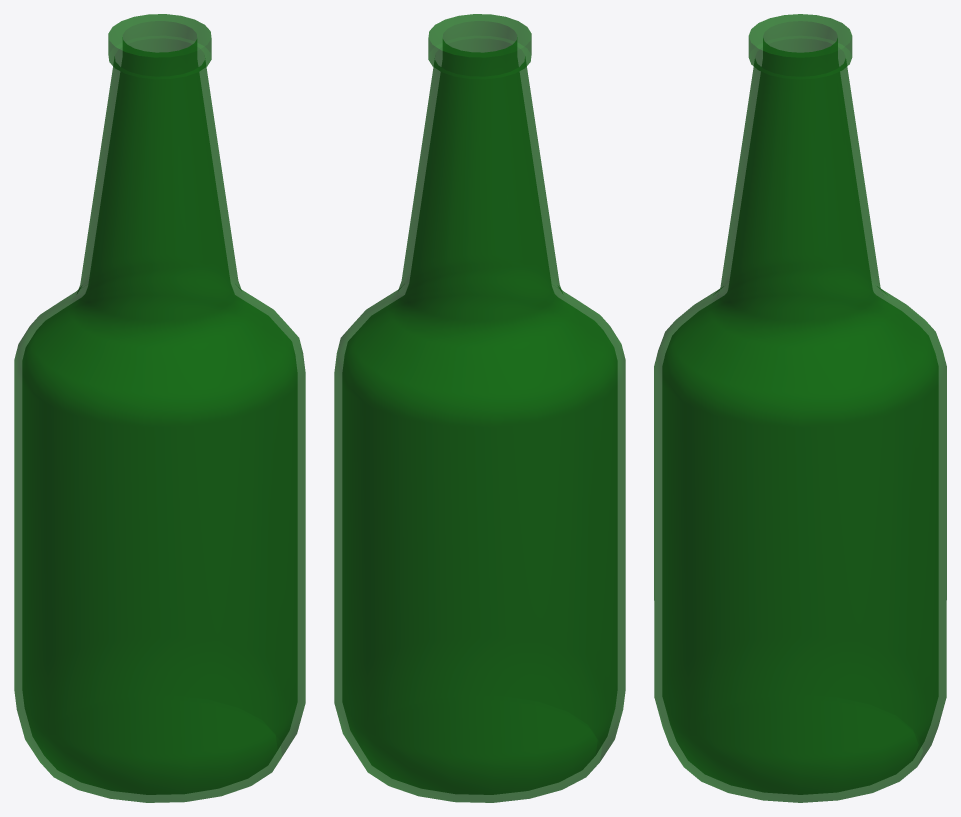
The model's file is GlassBottle.fbx.
3 renders of one model, left to right at view 1: azimuth 30°, elevation 25°; view 2: azimuth 150°, elevation 25°; view 3: azimuth 270°, elevation 25°, orthographic.
Visible parts, largest first — view 1: GlassBottle; view 2: GlassBottle; view 3: GlassBottle.
Part boxes in pixels (x1,y1,x2,y2): GlassBottle: [14, 14, 305, 802]; GlassBottle: [334, 14, 625, 802]; GlassBottle: [654, 14, 946, 802].
Size of the model in its own units: 0.0714 by 0.1924 by 0.0714.
